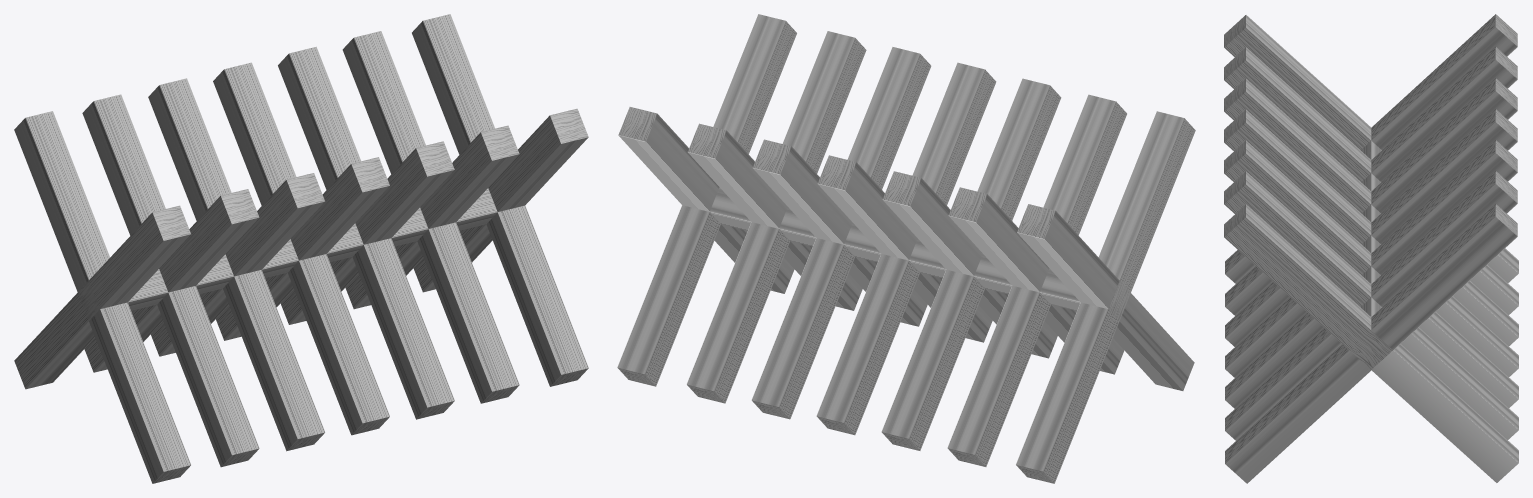
The model's file is DryingRack.fbx.
3 views of the same model, side by side, from view 1: azimuth 30°, elevation 25°; view 2: azimuth 150°, elevation 25°; view 3: azimuth 270°, elevation 25° (orthographic). The views are drawn at different scales.
Parts seen in each view (by area): view 1: drying_rack; view 2: drying_rack; view 3: drying_rack.
Boxes of the visible parts, x1=… form: drying_rack: x1=14, y1=14, x2=588, y2=483; drying_rack: x1=617, y1=14, x2=1195, y2=483; drying_rack: x1=1224, y1=14, x2=1518, y2=483.
Bounding box in the file's own units: 0.5282 × 0.3235 × 0.3235.
